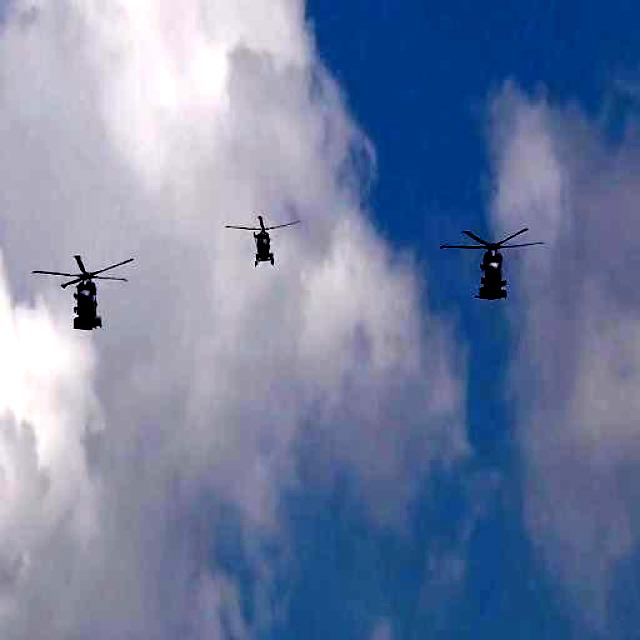drone: (31, 251, 136, 335), (438, 225, 545, 304), (224, 211, 302, 270)
